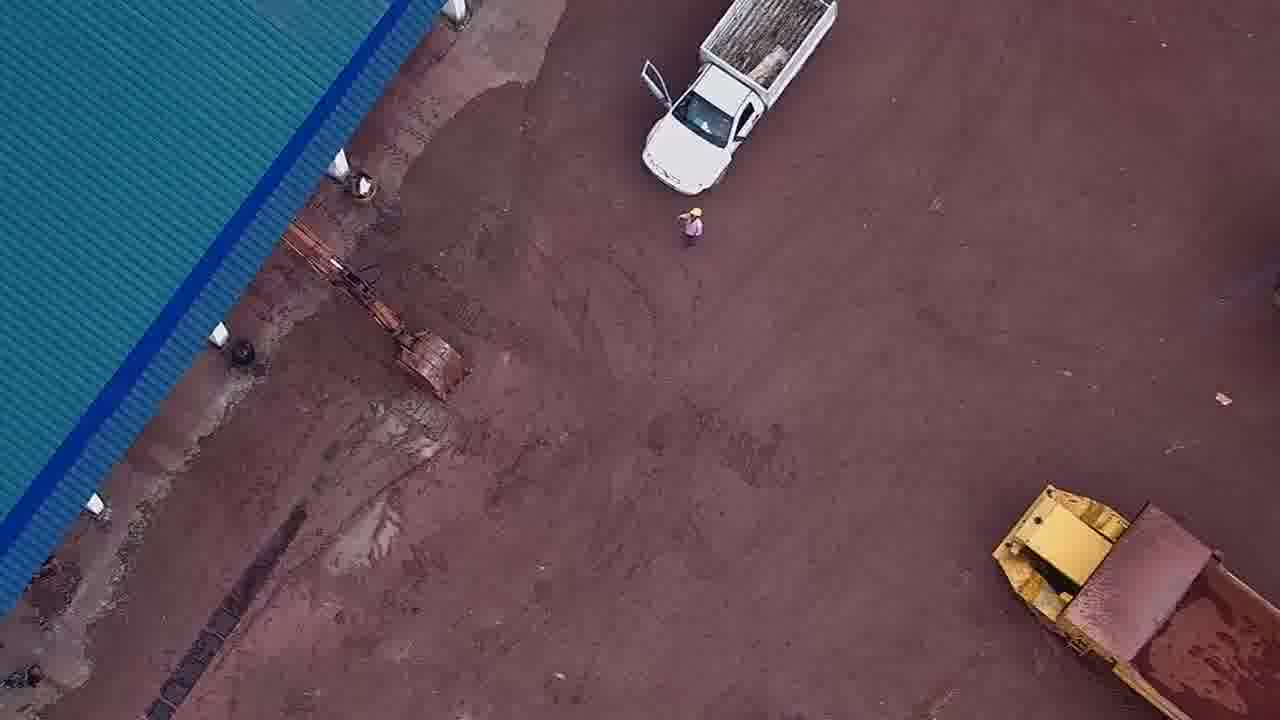light_motor_vehicle: (639, 1, 838, 197)
person: (677, 207, 708, 250)
